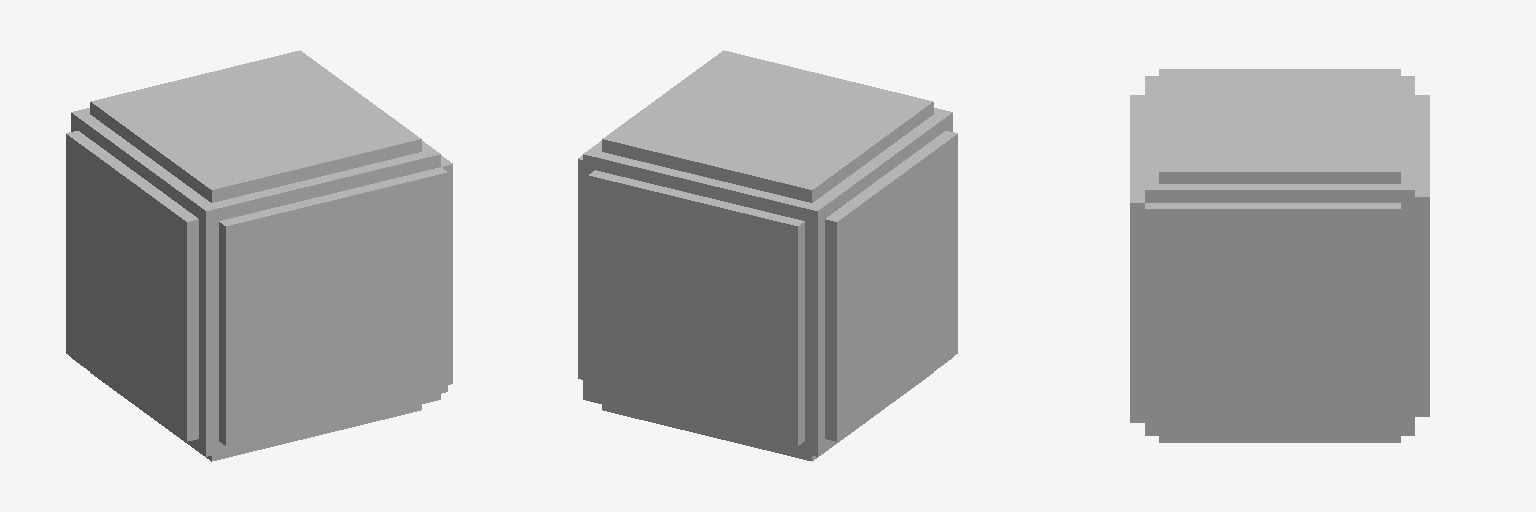
Rendered from Player.obj.
3 views of the same model, side by side, from view 1: azimuth 30°, elevation 25°; view 2: azimuth 150°, elevation 25°; view 3: azimuth 270°, elevation 25° (orthographic).
Size of the model in its own units: 21 by 21 by 21.